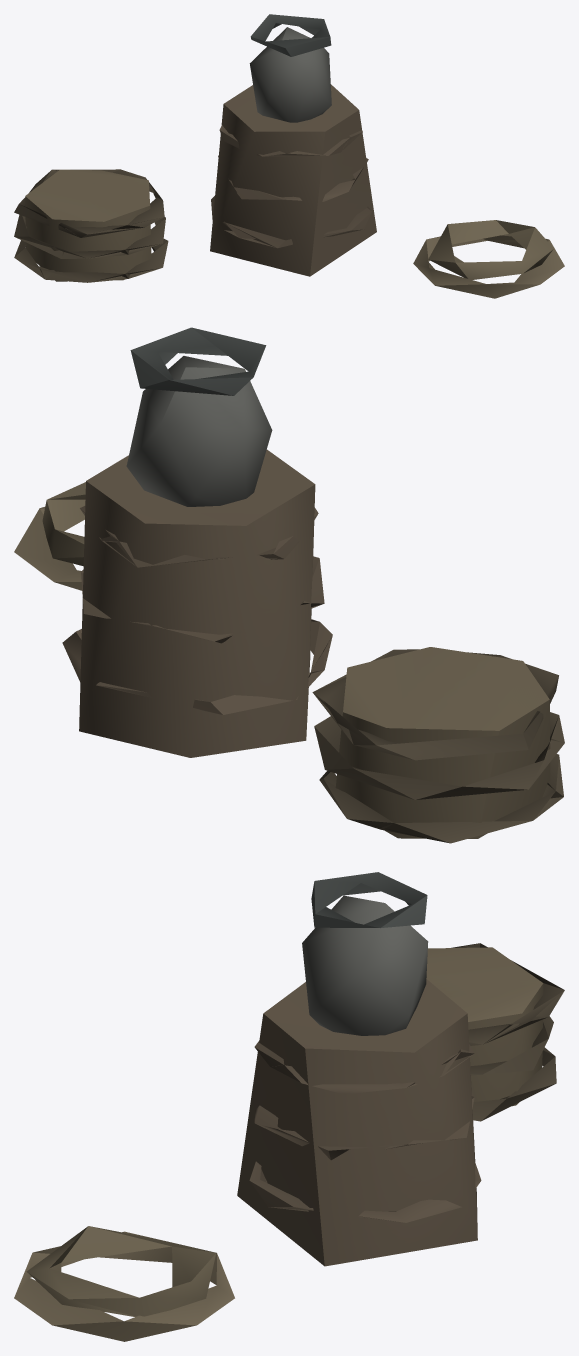
Rendered from rope_basket_a_lod2.glb.
3 renders of one model, top to bottom at view 1: azimuth 30°, elevation 25°; view 2: azimuth 150°, elevation 25°; view 3: azimuth 270°, elevation 25°, orthographic. The views are drawn at different scales.
Parts seen in each view (by area): view 1: Surface.001; view 2: Surface.001; view 3: Surface.001.
Part boxes in pixels (x1,y1,x2,y2): Surface.001: [14, 14, 564, 298]; Surface.001: [14, 327, 564, 843]; Surface.001: [14, 872, 564, 1341].
Bounding box in the file's own units: 1.81 × 0.8727 × 1.37.
